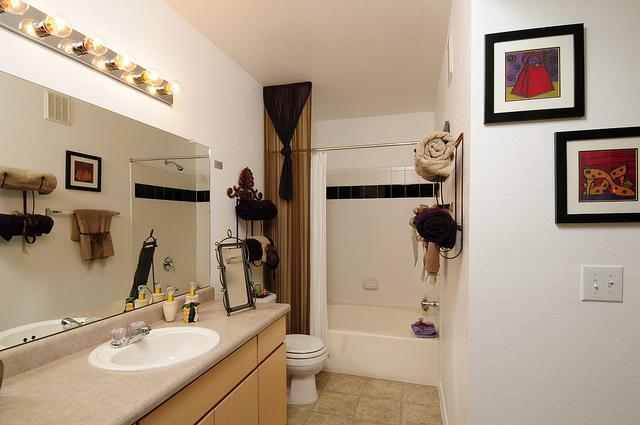Lavamanos: (82, 315, 225, 379)
Sanitario: (251, 324, 329, 407)
